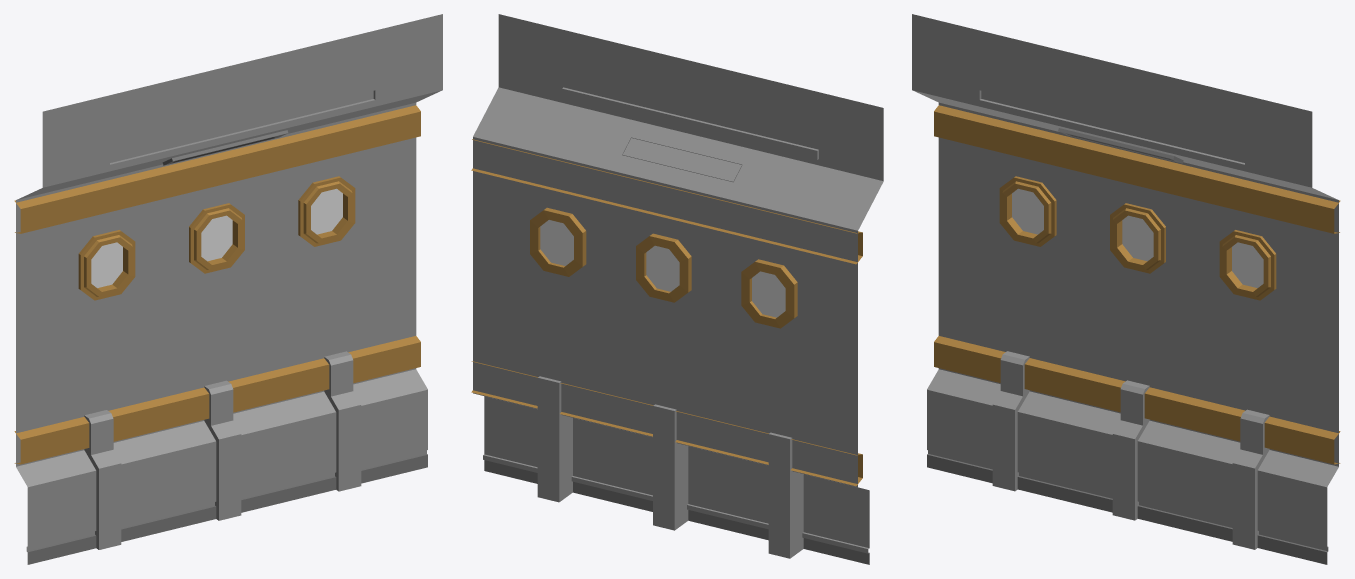
File: SmallWindows_Wall_SideB.fbx
3 views of the same model, side by side, from view 1: azimuth 30°, elevation 25°; view 2: azimuth 150°, elevation 25°; view 3: azimuth 330°, elevation 25° (orthographic). The views are drawn at different scales.
Parts seen in each view (by area): view 1: SmallWindows_Wall_SideB; view 2: SmallWindows_Wall_SideB; view 3: SmallWindows_Wall_SideB.
Part boxes in pixels (x1,y1,x2,y2): SmallWindows_Wall_SideB: [14, 14, 442, 564]; SmallWindows_Wall_SideB: [471, 14, 883, 564]; SmallWindows_Wall_SideB: [912, 14, 1340, 564].
Size of the model in its own units: 400 by 443 by 52.61.
